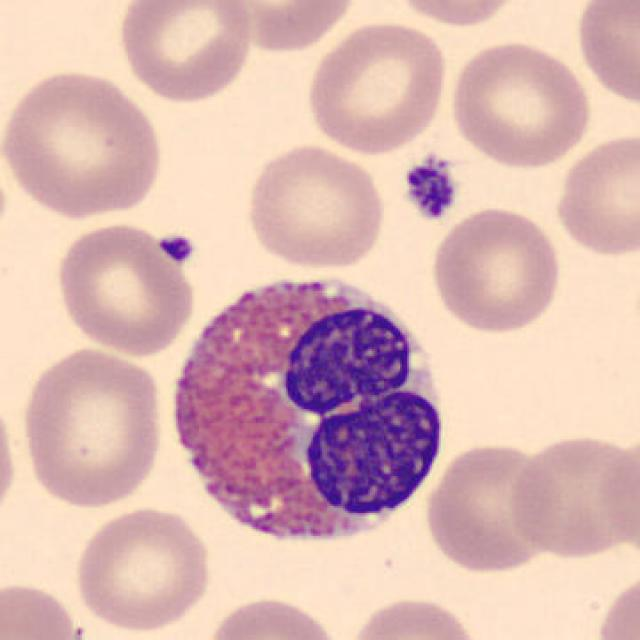Eosinophil: (158, 255, 459, 562)
Platelets: (400, 157, 460, 224), (153, 229, 199, 266)
RBC: (0, 65, 167, 222), (18, 344, 167, 511), (302, 18, 450, 157), (52, 219, 199, 358), (444, 37, 596, 171), (240, 141, 388, 272), (71, 502, 215, 634), (422, 437, 558, 575), (427, 203, 565, 337), (505, 428, 636, 562), (114, 0, 256, 104), (551, 129, 638, 259), (210, 0, 361, 55), (570, 0, 640, 111), (199, 592, 347, 640), (345, 592, 483, 640), (0, 578, 82, 640), (389, 0, 528, 30), (0, 383, 23, 529), (592, 569, 638, 640)
